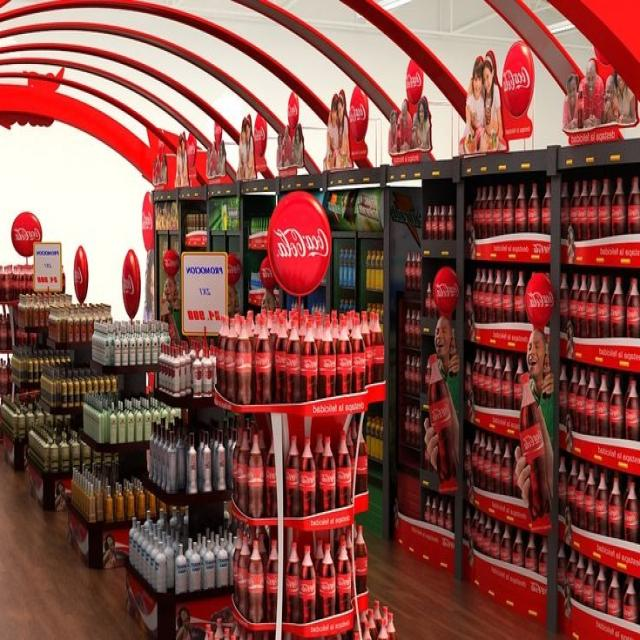coca cola: (269, 229, 330, 264), (496, 55, 536, 99)
